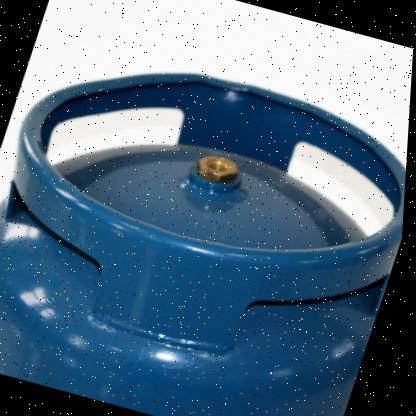gas-tank: (0, 16, 414, 415)
